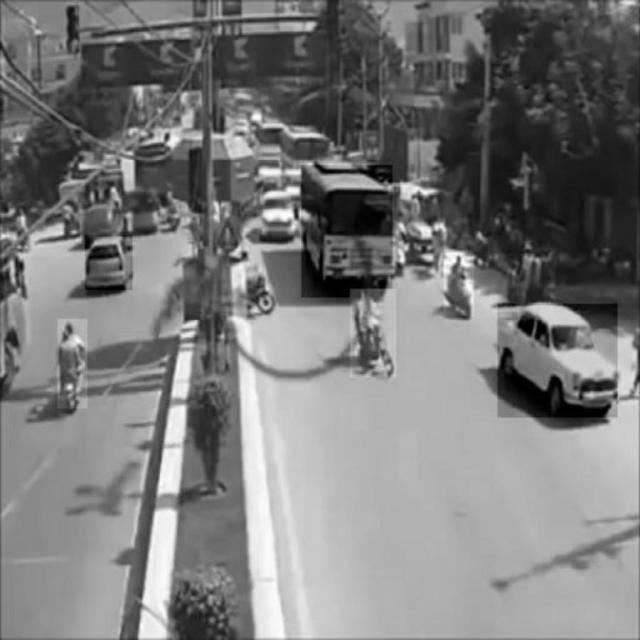vehicle: (497, 304, 618, 417), (302, 165, 393, 297), (351, 289, 397, 377), (58, 319, 88, 409), (86, 235, 133, 290), (444, 253, 474, 317)
